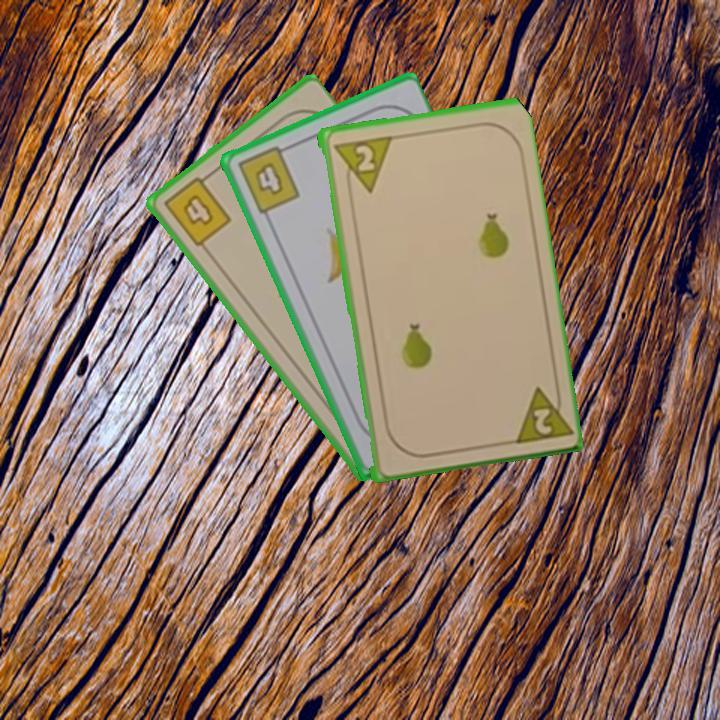2p: (507, 378, 572, 447), (328, 132, 393, 197)
4b: (159, 169, 235, 250), (233, 141, 303, 217)
